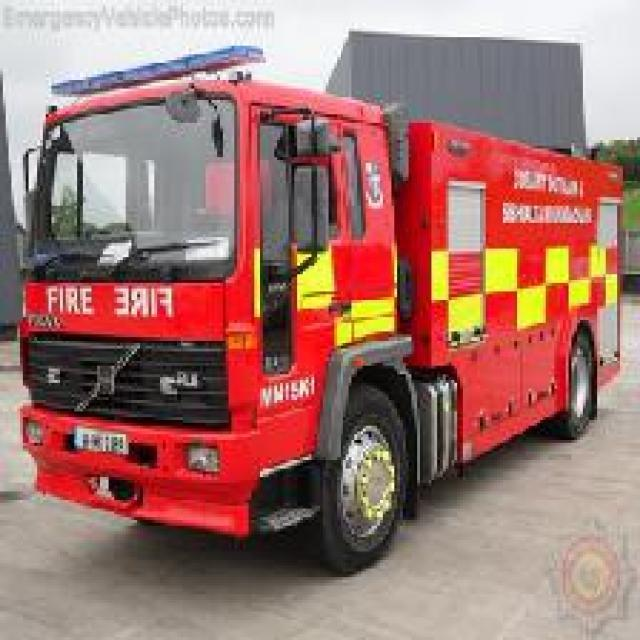emergency: (11, 39, 626, 574)
